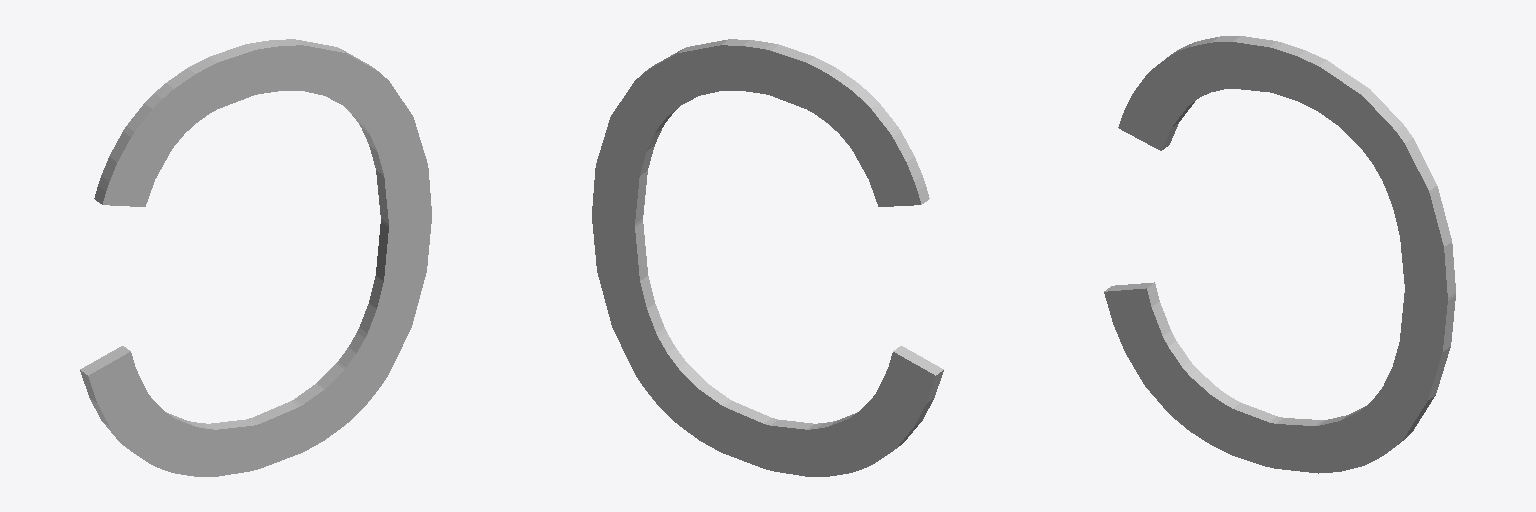
File: C_UPPER.obj
3 renders of one model, left to right at view 1: azimuth 30°, elevation 25°; view 2: azimuth 150°, elevation 25°; view 3: azimuth 330°, elevation 25°, orthographic.
Parts seen in each view (by area): view 1: default; view 2: default; view 3: default.
Part boxes in pixels (x1,y1,x2,y2): default: (80,39,431,476); default: (592,39,943,476); default: (1104,36,1455,473).
Bounding box in the file's own units: 2.4 × 2.8 × 0.1.